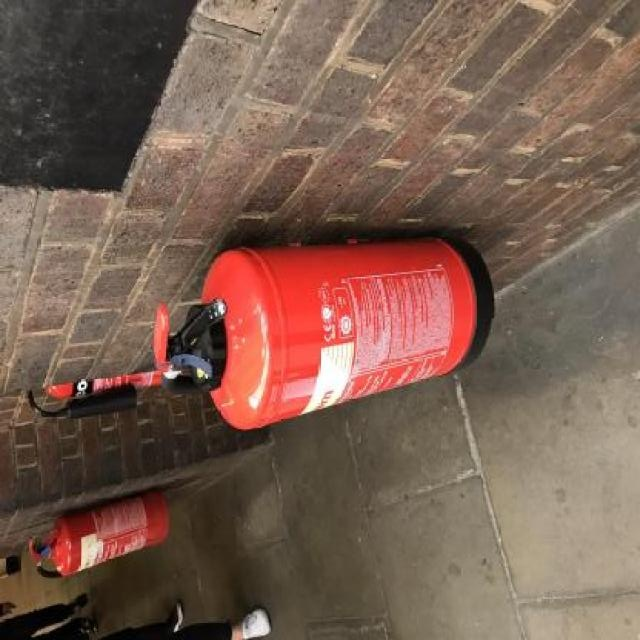fire extinguisher: (150, 234, 495, 431), (22, 492, 178, 576), (25, 363, 168, 422)
